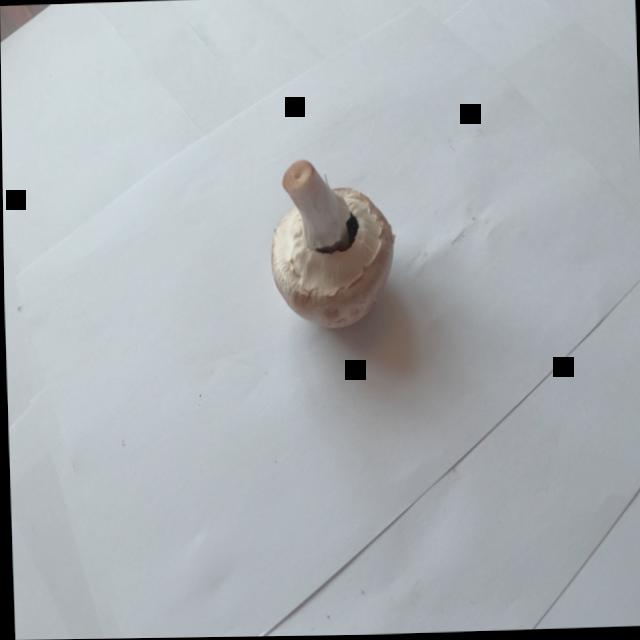Buttonmushroom: (237, 129, 416, 360)
